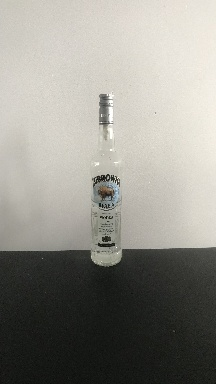butelka: (89, 94, 123, 269)
